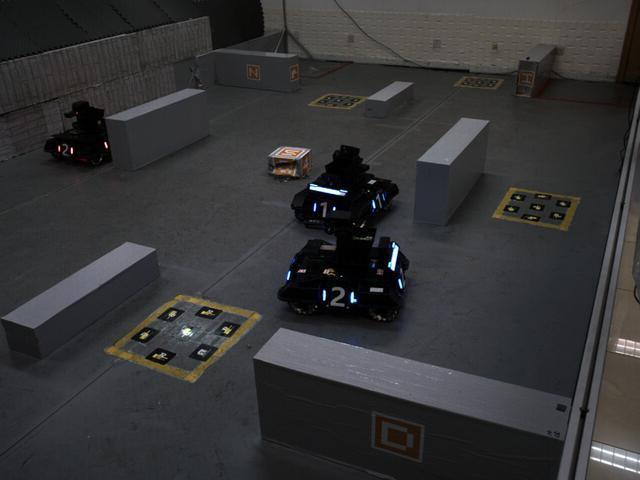armor: (321, 282, 358, 313), (309, 194, 342, 224), (368, 190, 389, 213), (54, 142, 76, 160)
